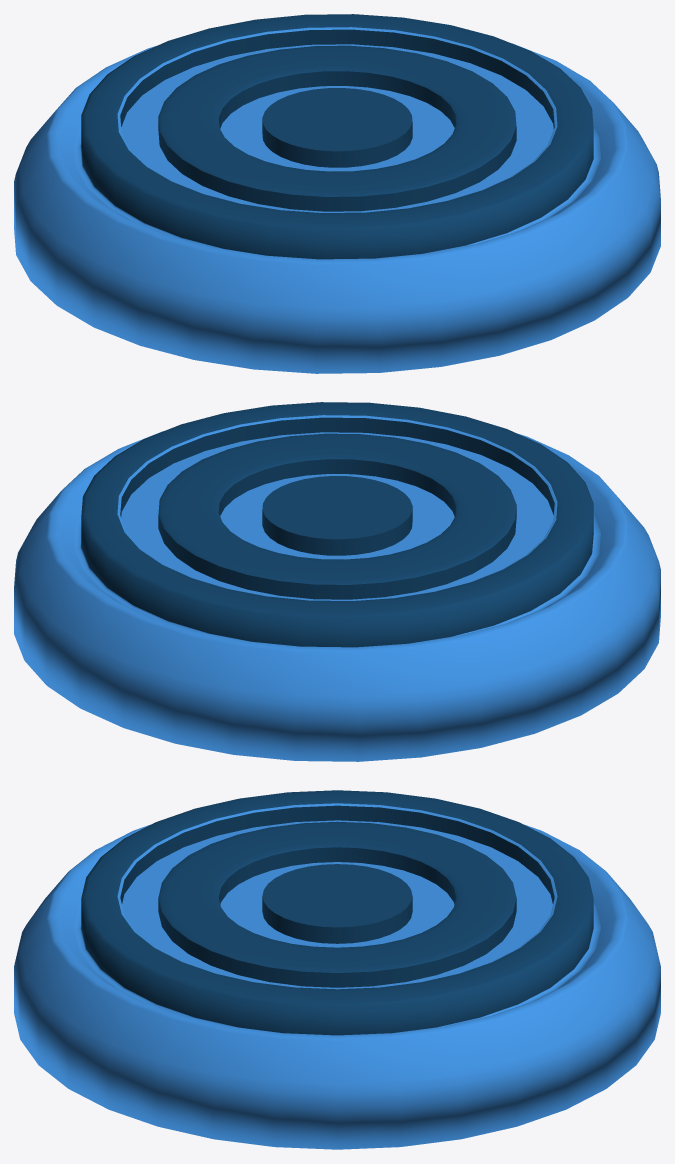
File: Turumpo_Hitbox_Enemy.fbx
3 views of the same model, one above another, from view 1: azimuth 30°, elevation 25°; view 2: azimuth 150°, elevation 25°; view 3: azimuth 270°, elevation 25° (orthographic).
Parts seen in each view (by area): view 1: Cylinder; view 2: Cylinder; view 3: Cylinder.
Part boxes in pixels (bbox=[...]): Cylinder: bbox=[14, 14, 660, 373]; Cylinder: bbox=[14, 402, 660, 761]; Cylinder: bbox=[14, 790, 660, 1149].
Bounding box in the file's own units: 200 × 40 × 200.
